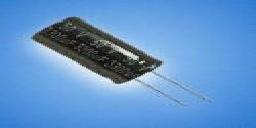Electrolytic-Capacitor: (31, 17, 222, 112)
